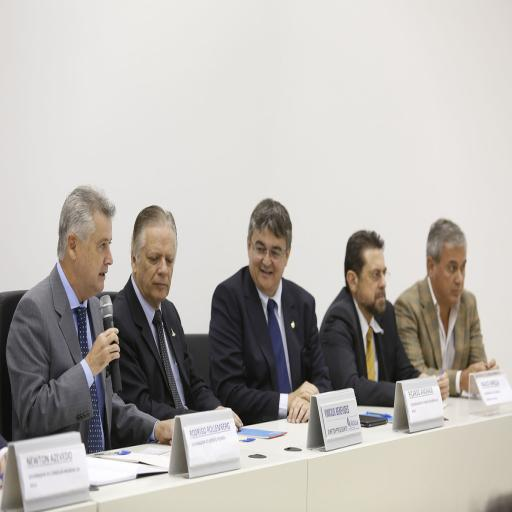Person: (10, 204, 136, 393), (204, 208, 325, 368), (116, 222, 212, 367), (398, 222, 500, 334), (320, 230, 406, 344)
no_gloves: (80, 296, 126, 338), (463, 324, 501, 352), (280, 338, 314, 368), (276, 335, 320, 356), (145, 357, 177, 381), (434, 328, 450, 358)
no_goggle: (141, 244, 183, 268), (250, 236, 284, 263), (430, 253, 466, 270), (358, 259, 390, 277), (80, 241, 114, 255)
no_helmet: (56, 197, 122, 257), (231, 206, 299, 254), (419, 222, 473, 269), (334, 226, 390, 271), (125, 211, 185, 253)
none: (13, 264, 153, 403), (200, 250, 341, 372), (108, 256, 222, 399), (306, 257, 436, 361), (390, 262, 504, 354)
